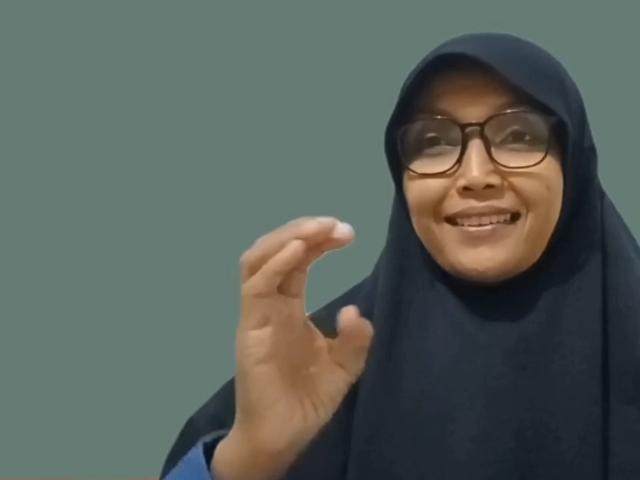C: (236, 211, 372, 421)
